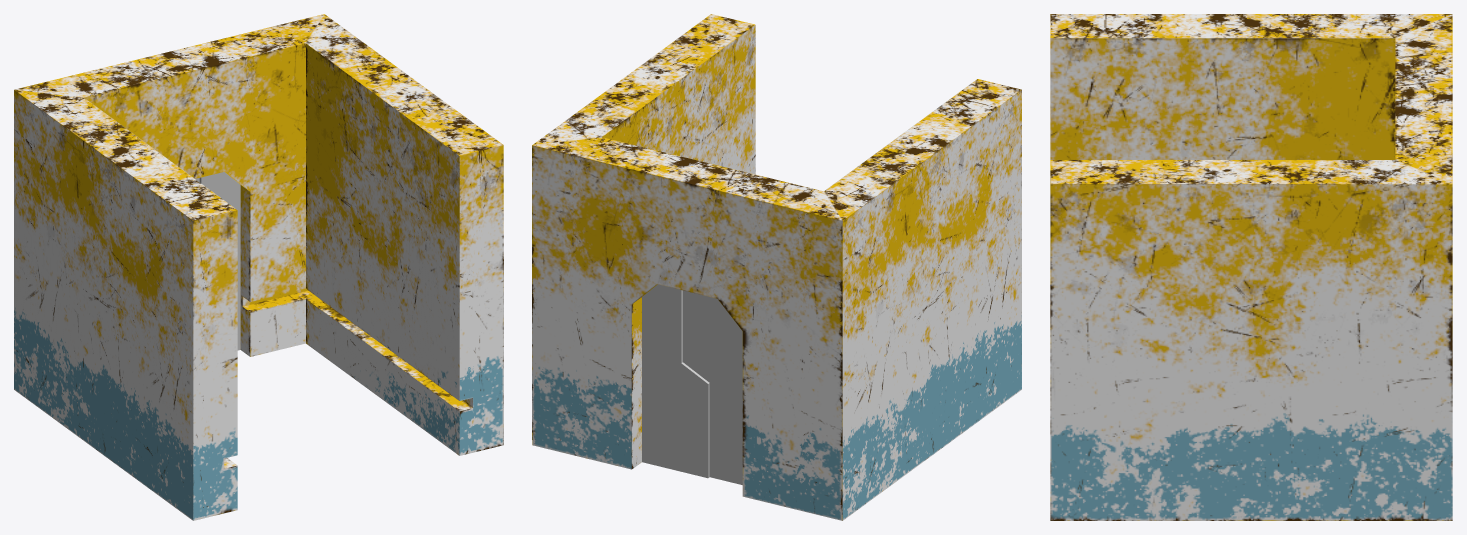
File: Modular_Dungeon_Wall_U-Form_door.fbx
3 views of the same model, side by side, from view 1: azimuth 30°, elevation 25°; view 2: azimuth 150°, elevation 25°; view 3: azimuth 270°, elevation 25° (orthographic). The views are drawn at different scales.
Visible parts, largest first — view 1: U-Form_door, Tür_Element_A; view 2: U-Form_door, Tür_Element_A, Tür_Element_B; view 3: U-Form_door.
Boxes of the visible parts, x1,y1,x2,y2 form: U-Form_door: [14, 14, 503, 520]; Tür_Element_A: [199, 172, 240, 350]; U-Form_door: [532, 14, 1021, 520]; Tür_Element_A: [642, 284, 709, 478]; Tür_Element_B: [683, 290, 742, 484]; U-Form_door: [1050, 14, 1452, 520].
Bounding box in the file's own units: 280 × 259 × 280.
